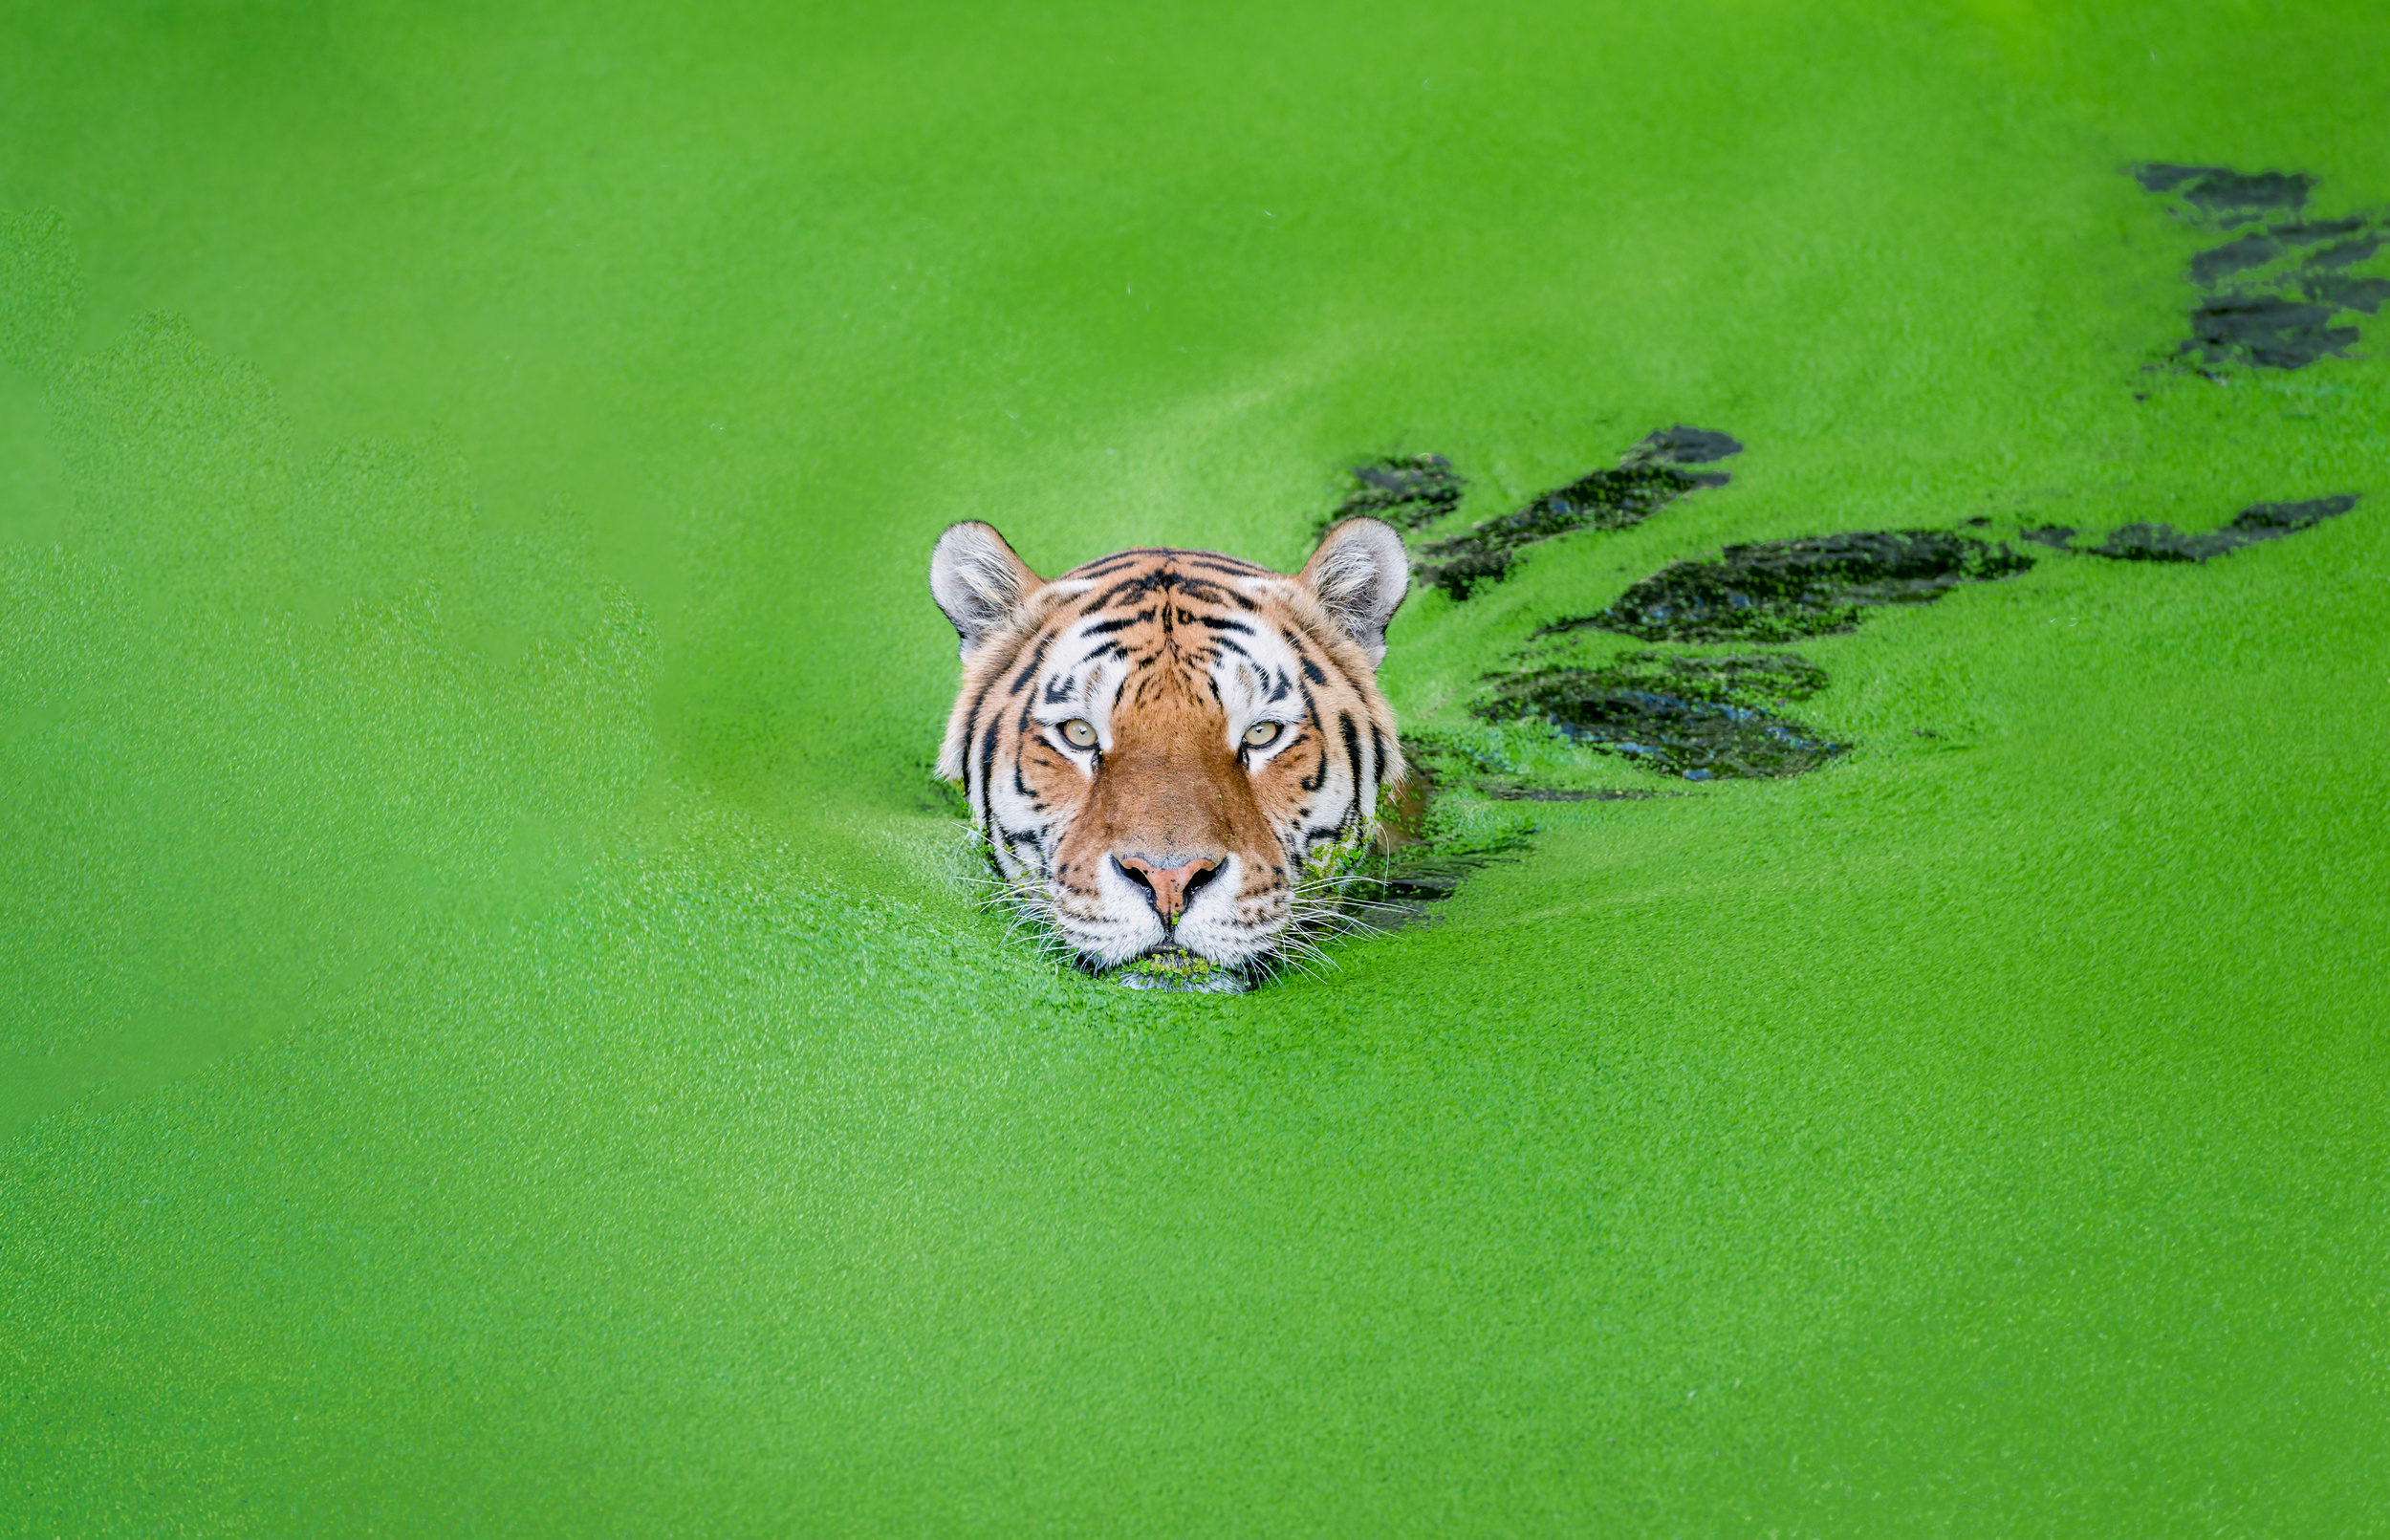tiger: (888, 500, 1482, 995)
